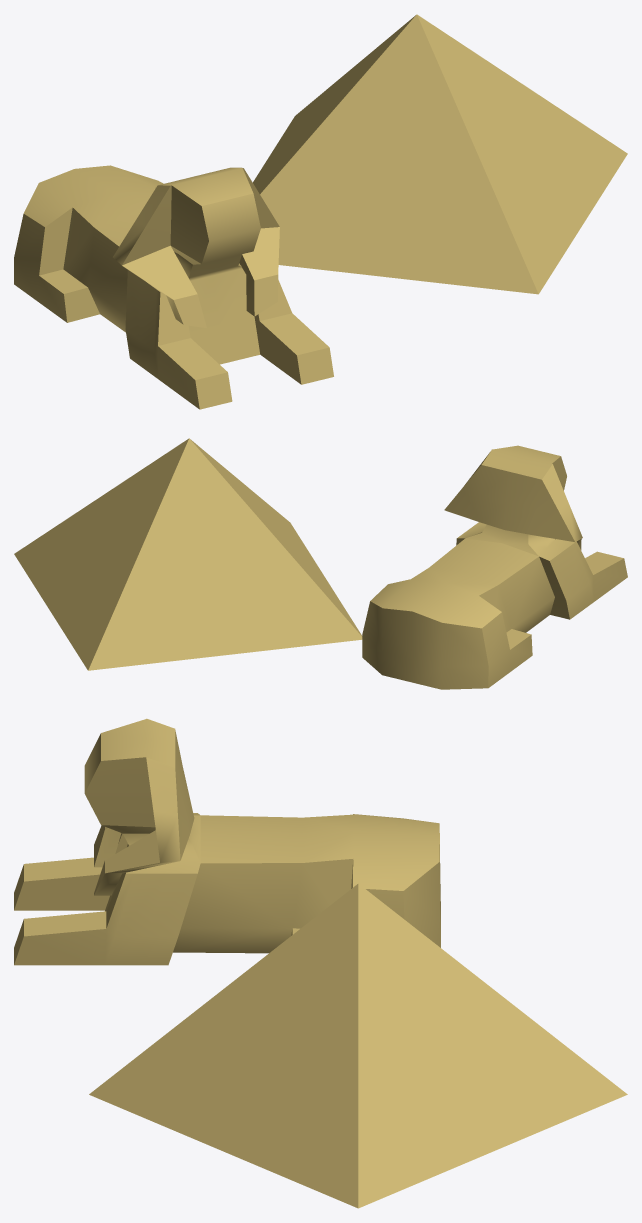
Rendered from Sphix.fbx.
The picture shows the model from 3 angles, top to bottom: view 1: azimuth 30°, elevation 25°; view 2: azimuth 150°, elevation 25°; view 3: azimuth 270°, elevation 25°; orthographic projection. The views are drawn at different scales.
Visible parts, largest first — view 1: pCone1, pCube37; view 2: pCone1, pCube37; view 3: pCone1, pCube37.
Part boxes in pixels (x1,y1,x2,y2): pCone1: [253, 14, 627, 294]; pCube37: [14, 165, 333, 409]; pCone1: [14, 438, 362, 670]; pCube37: [362, 445, 627, 689]; pCone1: [89, 883, 627, 1208]; pCube37: [14, 718, 440, 965].
Size of the model in its own units: 16.31 by 5.04 by 13.16.
